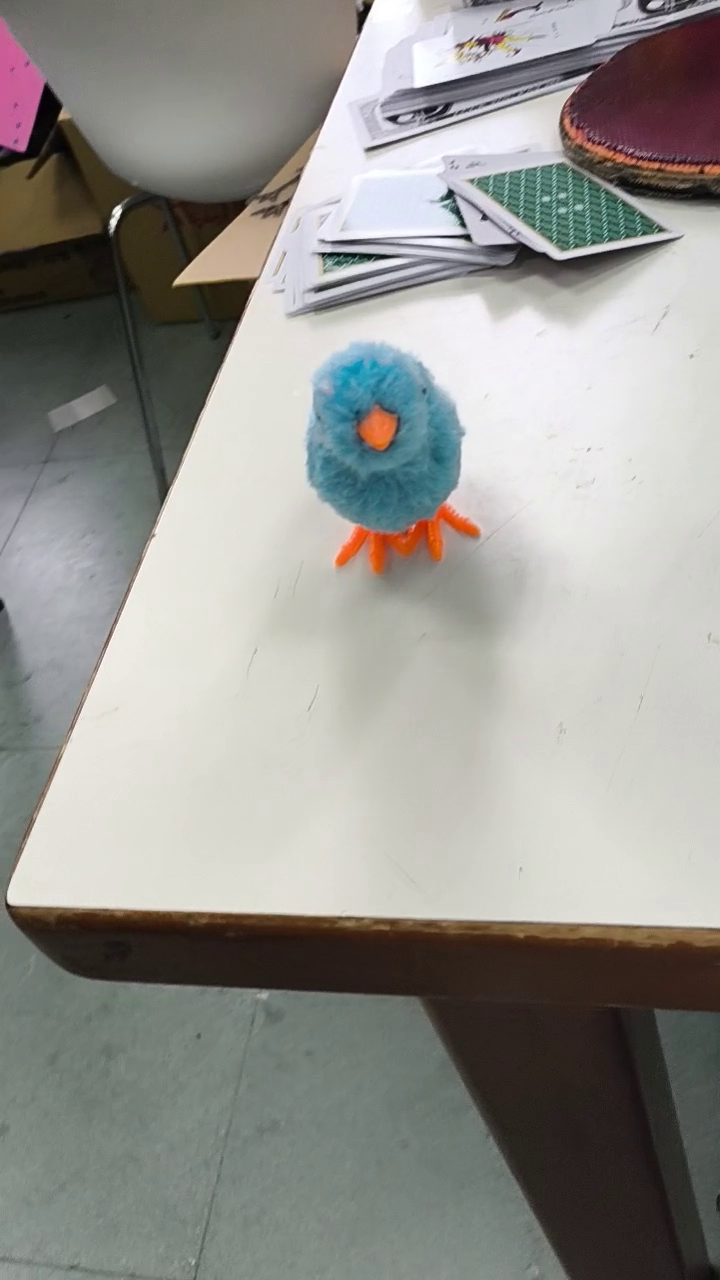blue chicken: (301, 337, 489, 581)
